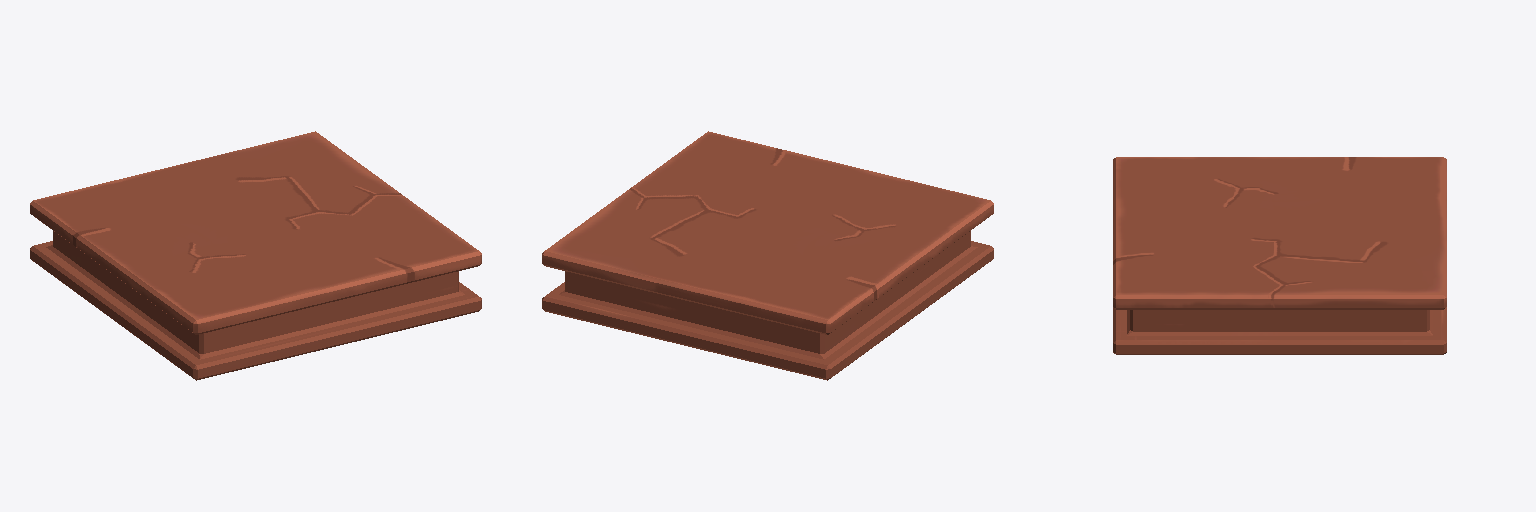
3 views of the same model, side by side, from view 1: azimuth 30°, elevation 25°; view 2: azimuth 150°, elevation 25°; view 3: azimuth 270°, elevation 25° (orthographic).
Parts seen in each view (by area): view 1: Platform_High_2; view 2: Platform_High_2; view 3: Platform_High_2.
Boxes of the visible parts, <box> form: Platform_High_2: <box>30,131,481,380</box>; Platform_High_2: <box>542,131,993,380</box>; Platform_High_2: <box>1113,157,1446,354</box>.
Size of the model in its own units: 2 by 0.4 by 2.
Materials: 1 (1 with a texture image).